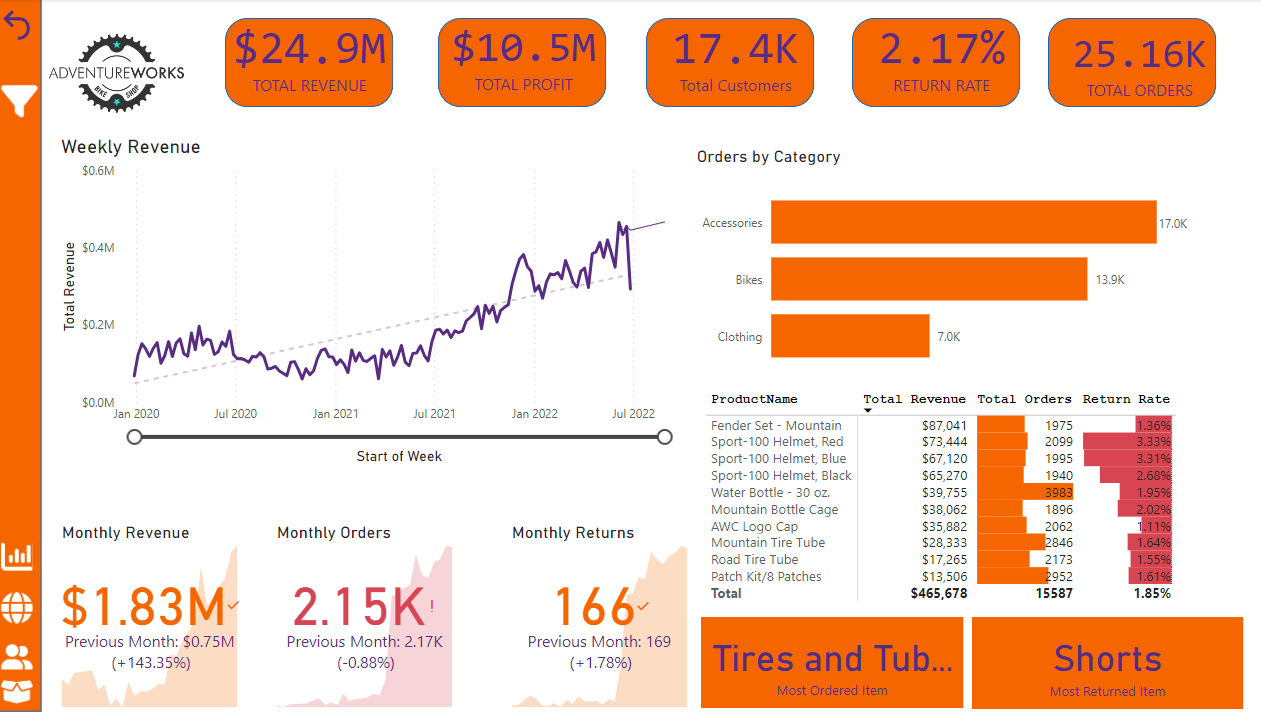

The page's visual inventory and layout, read from the dashboard file:
{"tool":"powerbi","page":{"name":"Excecutive dashboard","canvas":[1280,720],"ordinal":0},"visuals":[{"type":"image","title":"Aw logo","box":[32.5,0,176.5,148.6],"z":0},{"type":"card","fields":{"Values":["Measure Table.total reven"]},"box":[217.7,0,194.8,111.3],"z":0,"group":"g1"},{"type":"actionButton","box":[0,543.5,49.9,39.6],"z":0,"group":"g2"},{"type":"shape","title":"lef nav ng","box":[0,0,45.1,719.8],"z":1000},{"type":"card","fields":{"Values":["Measure Table.total_profit"]},"box":[433.6,0,194.8,111.3],"z":1000,"group":"g1"},{"type":"actionButton","box":[0,594.6,49.9,39.6],"z":1000,"group":"g2"},{"type":"card","fields":{"Values":["Measure Table.Total Customers"]},"box":[647.6,0,194.8,111.3],"z":2000,"group":"g1"},{"type":"shape","box":[230.1,19.2,170.1,90.3],"z":2000},{"type":"actionButton","box":[0,644.5,49.9,39.6],"z":2000,"group":"g2"},{"type":"card","fields":{"Values":["Measure Table.Return Rate"]},"box":[856.7,0,194.8,111.3],"z":3000,"group":"g1"},{"type":"shape","box":[446,19.2,170.1,90.3],"z":3000},{"type":"actionButton","box":[0,79.9,45.2,47.7],"z":3000,"group":"g2"},{"type":"card","fields":{"Values":["Measure Table.Total Orders"]},"box":[1055.8,6.8,194.8,111.3],"z":4000,"group":"g1"},{"type":"shape","box":[655.7,19.2,170.1,90.3],"z":4000},{"type":"shape","box":[863.5,19.2,170.1,89.7],"z":5000},{"type":"shape","box":[1062.1,19.2,170.1,89.7],"z":6000},{"type":"group","id":"g1","title":"Group 1","box":[217.7,0,1033,118.1],"z":7000},{"type":"lineChart","title":"Weekly Revenue","fields":{"Y":["Measure Table.total reven"],"Category":["Calendar Lookup.Start of Year.1 Hierarchy.Start of Week"]},"box":[60,137.5,641.6,337.2],"z":8000},{"type":"kpi","title":"Monthly Revenue","fields":{"Indicator":["Measure Table.Total Revenue"],"TrendLine":["Calendar Lookup.Start of Month"],"Goal":["Measure Table.previous month profit"]},"box":[60.4,528.4,187,191.6],"z":9000},{"type":"kpi","title":"Monthly Orders","fields":{"TrendLine":["Calendar Lookup.Start of Month"],"Indicator":["Measure Table.Total Orders"],"Goal":["Measure Table.previous_month_order"]},"box":[278.3,528.2,186.6,192.1],"z":10000},{"type":"kpi","title":"Monthly Returns","fields":{"TrendLine":["Calendar Lookup.Start of Month"],"Indicator":["Measure Table.Total Retusn"],"Goal":["Measure Table.previous_month_retuns"]},"box":[515.1,528.2,186.6,192.1],"z":11000},{"type":"clusteredBarChart","title":"Orders by Category","fields":{"Category":["Product Categories Lookup.CategoryName"],"Y":["Measure Table.Total Orders"]},"box":[702.2,148.2,505,243.7],"z":12000},{"type":"pivotTable","fields":{"Rows":["Product Lookup.ProductName"],"Values":["Measure Table.Total Revenue","Measure Table.Total Orders","Measure Table.Return Rate"]},"box":[711,391.9,569,232.4],"z":13000},{"type":"card","fields":{"Values":["Min(Product Subcategories Lookup.SubcategoryName)"]},"box":[711,624.3,265,91.7],"z":14000},{"type":"card","fields":{"Values":["Min(Product Subcategories Lookup.SubcategoryName)"]},"box":[985,624,274,93],"z":15000},{"type":"actionButton","box":[0,6.3,100.5,40.2],"z":16000},{"type":"group","id":"g2","title":"Navigation Buttons","box":[0,79.9,49.9,604.2],"z":17000},{"type":"actionButton","box":[0,679.8,100.2,40.2],"z":19000}]}

Visuals, with their boxes on the page's 1280x720 design canvas (x1, y1, x2, y2). These are canvas units, not pixel positions in the 1261x712 screenshot, which may show the page scaled, cropped or inside an application window:
"Aw logo" image: box(32, 0, 209, 149)
card - Measure Table.total reven: box(218, 0, 412, 111)
actionButton: box(0, 544, 50, 583)
"lef nav ng" shape: box(0, 0, 45, 720)
card - Measure Table.total_profit: box(434, 0, 628, 111)
actionButton: box(0, 595, 50, 634)
card - Measure Table.Total Customers: box(648, 0, 842, 111)
shape: box(230, 19, 400, 110)
actionButton: box(0, 644, 50, 684)
card - Measure Table.Return Rate: box(857, 0, 1052, 111)
shape: box(446, 19, 616, 110)
actionButton: box(0, 80, 45, 128)
card - Measure Table.Total Orders: box(1056, 7, 1251, 118)
shape: box(656, 19, 826, 110)
shape: box(864, 19, 1034, 109)
shape: box(1062, 19, 1232, 109)
"Group 1" group: box(218, 0, 1251, 118)
"Weekly Revenue" lineChart: box(60, 138, 702, 475)
"Monthly Revenue" kpi: box(60, 528, 247, 720)
"Monthly Orders" kpi: box(278, 528, 465, 720)
"Monthly Returns" kpi: box(515, 528, 702, 720)
"Orders by Category" clusteredBarChart: box(702, 148, 1207, 392)
pivotTable - Product Lookup.ProductName x Measure Table.Total Revenue: box(711, 392, 1280, 624)
card - Min(Product Subcategories Lookup.SubcategoryName): box(711, 624, 976, 716)
card - Min(Product Subcategories Lookup.SubcategoryName): box(985, 624, 1259, 717)
actionButton: box(0, 6, 100, 46)
"Navigation Buttons" group: box(0, 80, 50, 684)
actionButton: box(0, 680, 100, 720)
